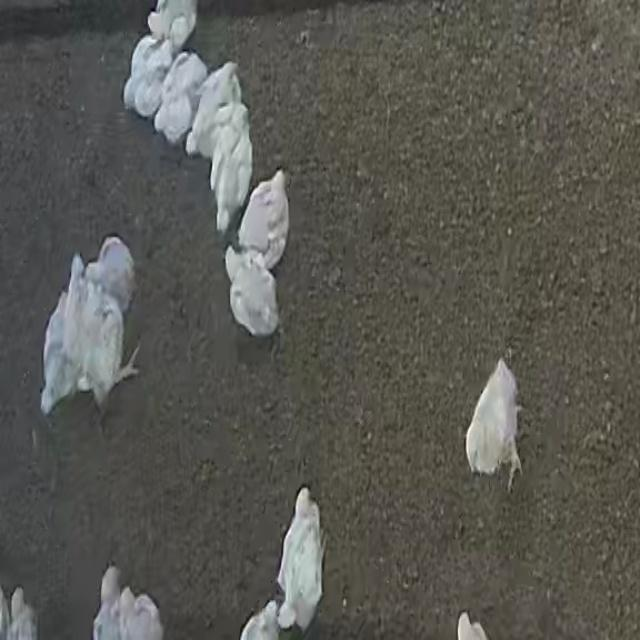chicken: (462, 357, 530, 495), (274, 482, 334, 634), (219, 246, 282, 346), (237, 168, 295, 268)
